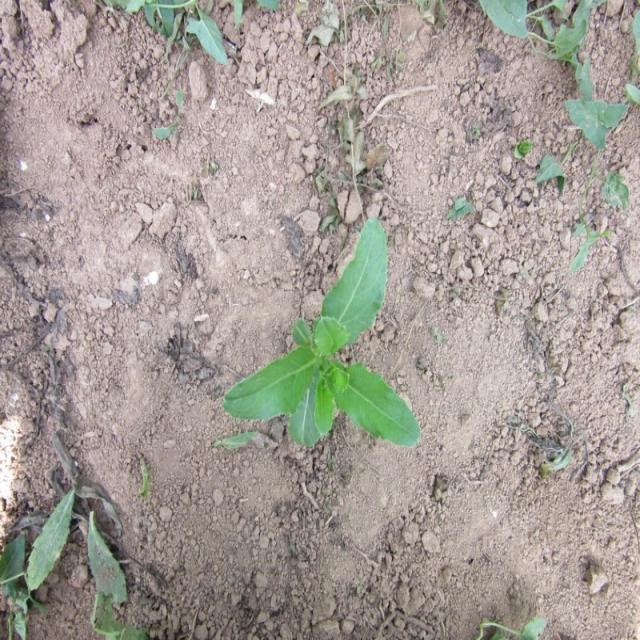cs: (223, 210, 423, 469)
